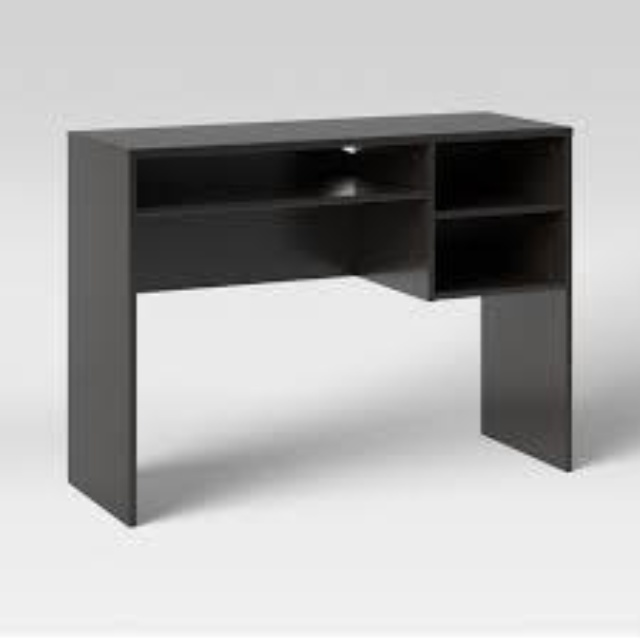obstacle: (68, 114, 577, 521)
